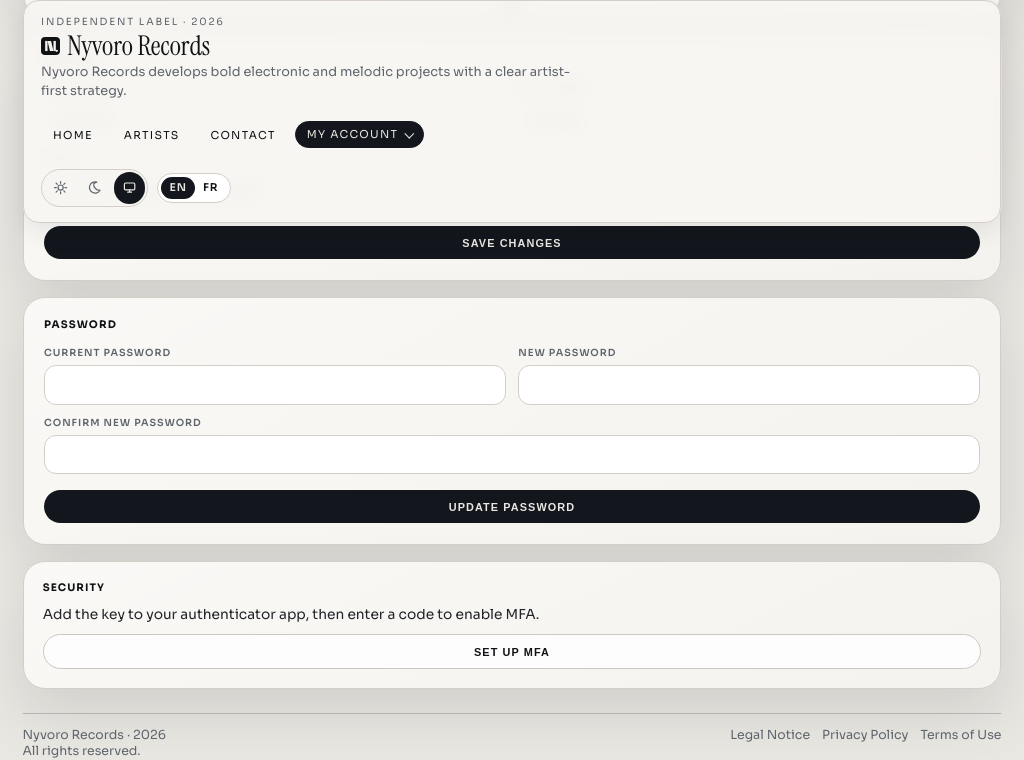
Scenario: account settings page › updates password from the account settings page
(page scrolled)
Type "AdminStrongPassword!2026" into the password field labelled "Current password".
click(275, 385); type("AdminStrongPassword!2026")  # box [44, 365, 506, 405]
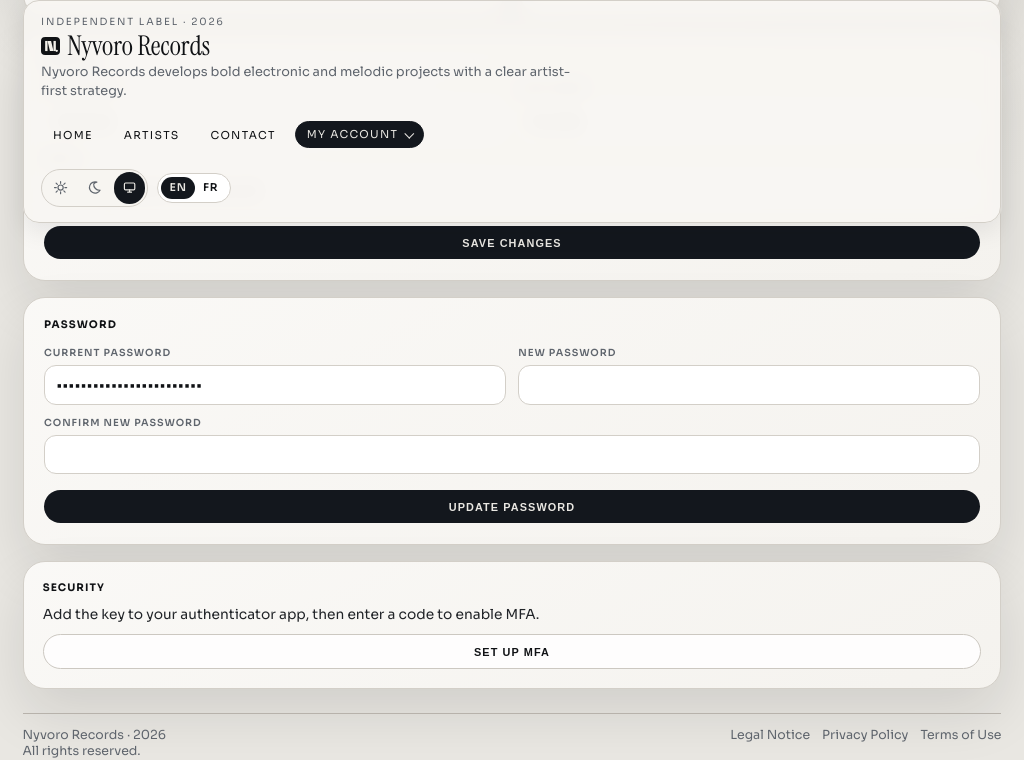
Type "AdminEvenStrongerPassword!2027" into the password field labelled "New password".
click(749, 385); type("AdminEvenStrongerPassword!2027")  # box [518, 365, 980, 405]
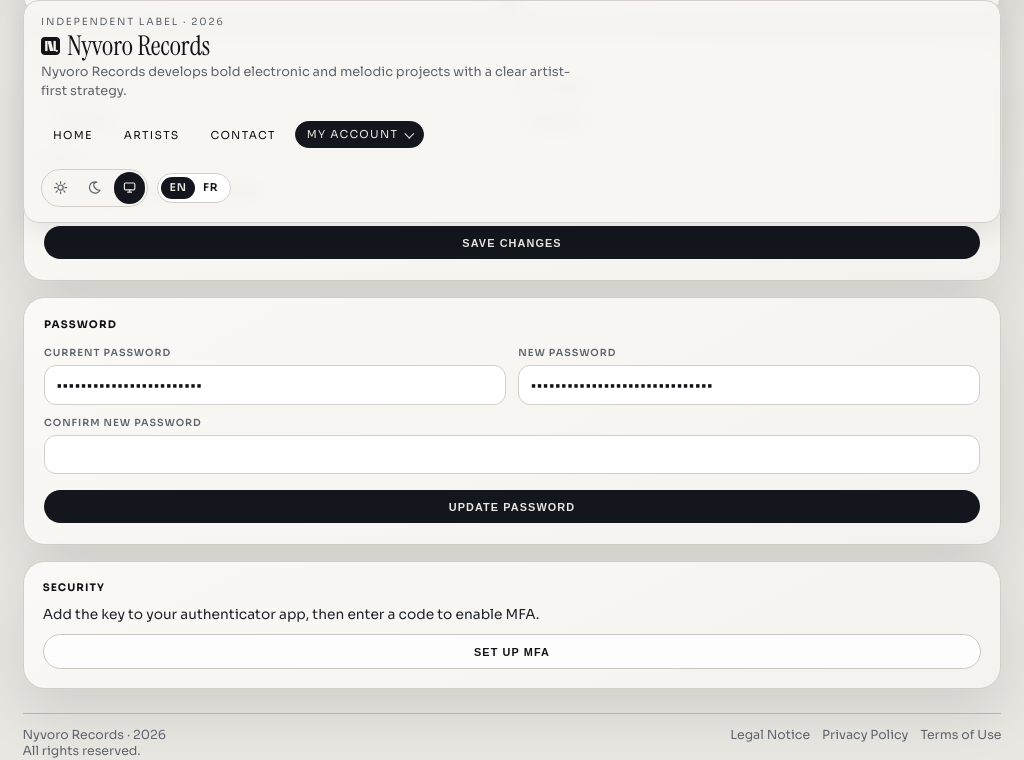
Type "AdminEvenStrongerPassword!2027" into the password field labelled "Confirm new password".
click(512, 454); type("AdminEvenStrongerPassword!2027")  # box [44, 434, 980, 474]
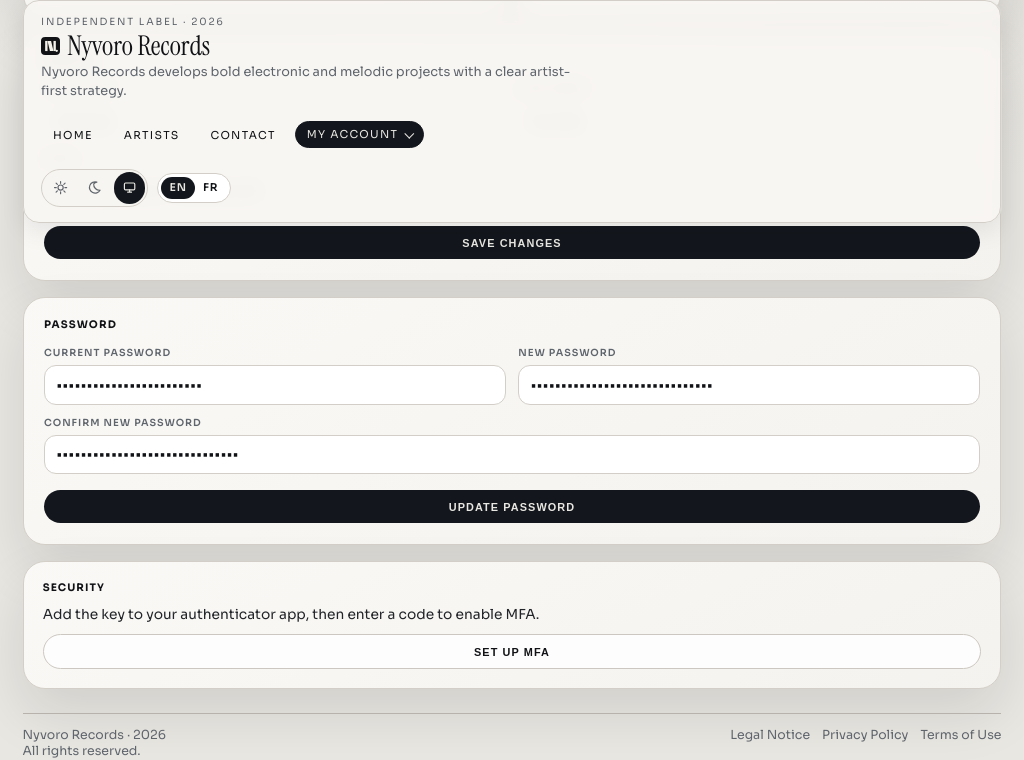
Click the button "Update password".
click(512, 507)  # box [44, 490, 980, 524]
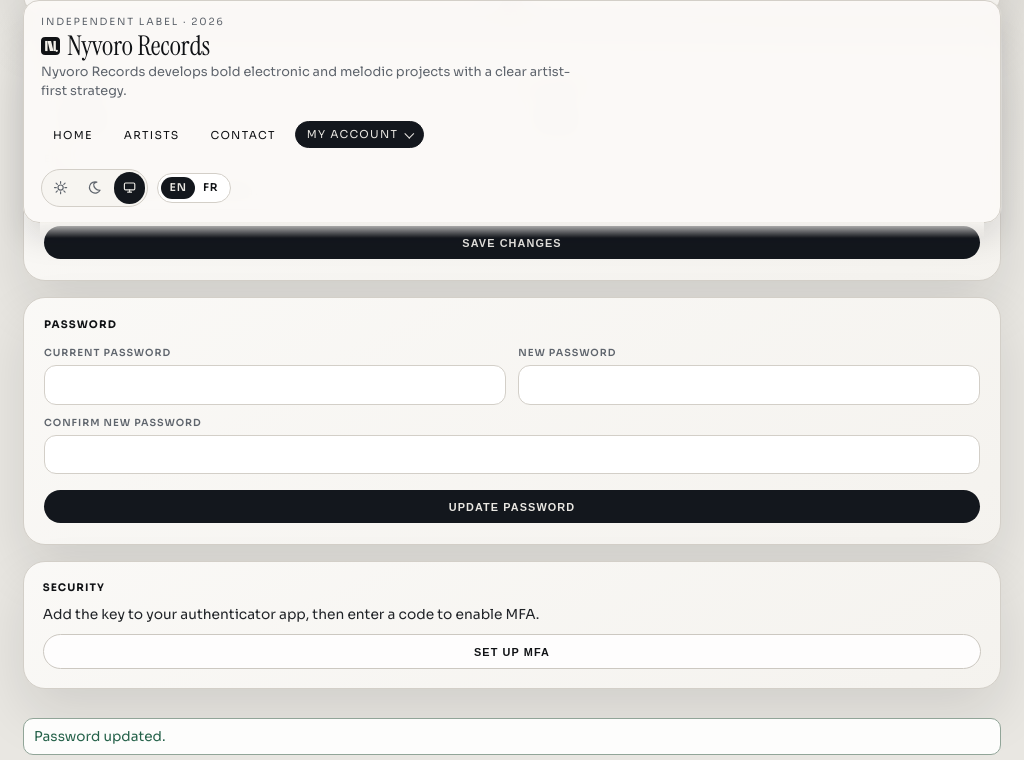
Expected: the text "Password updated." is shown, [22, 718, 1002, 755]
